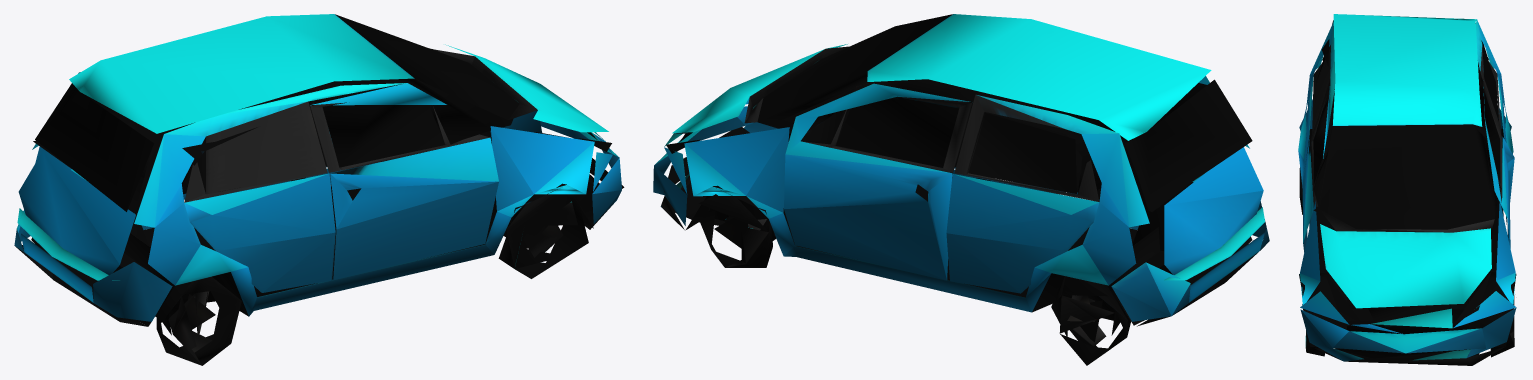
The model's file is car2Low.obj.
3 renders of one model, left to right at view 1: azimuth 30°, elevation 25°; view 2: azimuth 150°, elevation 25°; view 3: azimuth 270°, elevation 25°, orthographic. The views are drawn at different scales.
Visible parts, largest first — view 1: car2Low; view 2: car2Low; view 3: car2Low.
Part boxes in pixels (x1,y1,x2,y2): car2Low: [14, 14, 624, 365]; car2Low: [653, 14, 1269, 365]; car2Low: [1298, 14, 1516, 365].
Size of the model in its own units: 3.27 by 1.33 by 1.35.
1 material, 1 textured.
